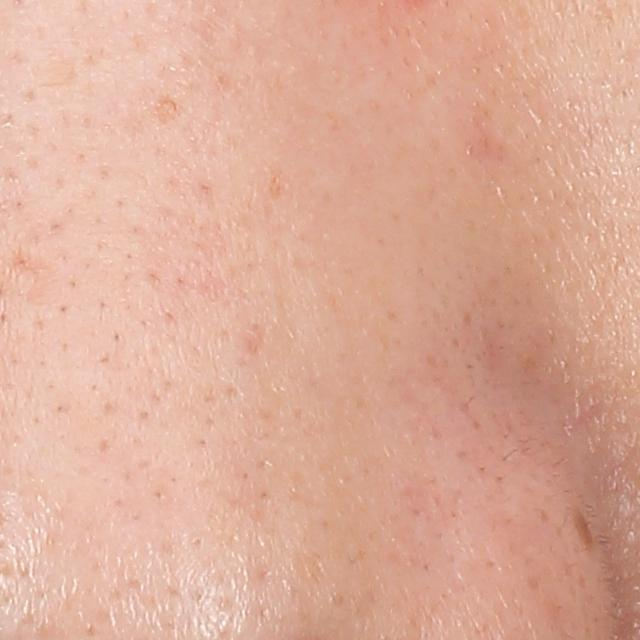melasma: (570, 503, 598, 551)
